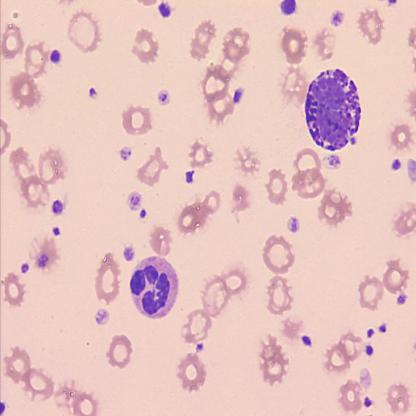Basophil: (303, 64, 362, 154), (128, 254, 177, 319)
